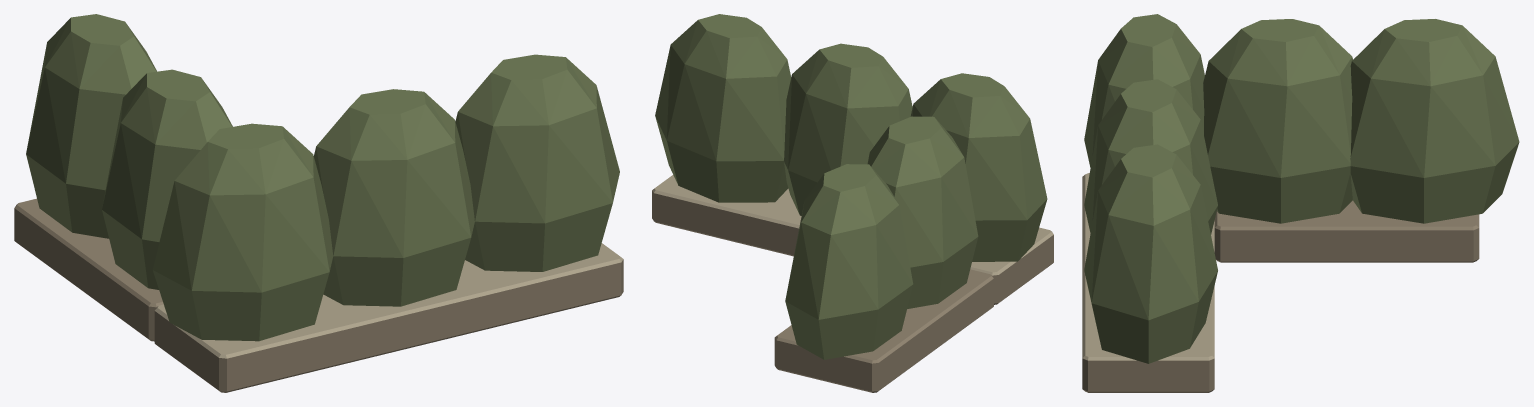
File: hedge-corner.glb
3 renders of one model, left to right at view 1: azimuth 30°, elevation 25°; view 2: azimuth 150°, elevation 25°; view 3: azimuth 270°, elevation 25°, orthographic. The views are drawn at different scales.
Visible parts, largest first — view 1: hedge-corner__body; view 2: hedge-corner__body; view 3: hedge-corner__body.
Boxes of the visible parts, x1,y1,x2,y2 form: hedge-corner__body: (14,14,623,392); hedge-corner__body: (652,14,1053,392); hedge-corner__body: (1082,14,1519,392).
Bounding box in the file's own units: 2.23 × 1.03 × 1.98.
